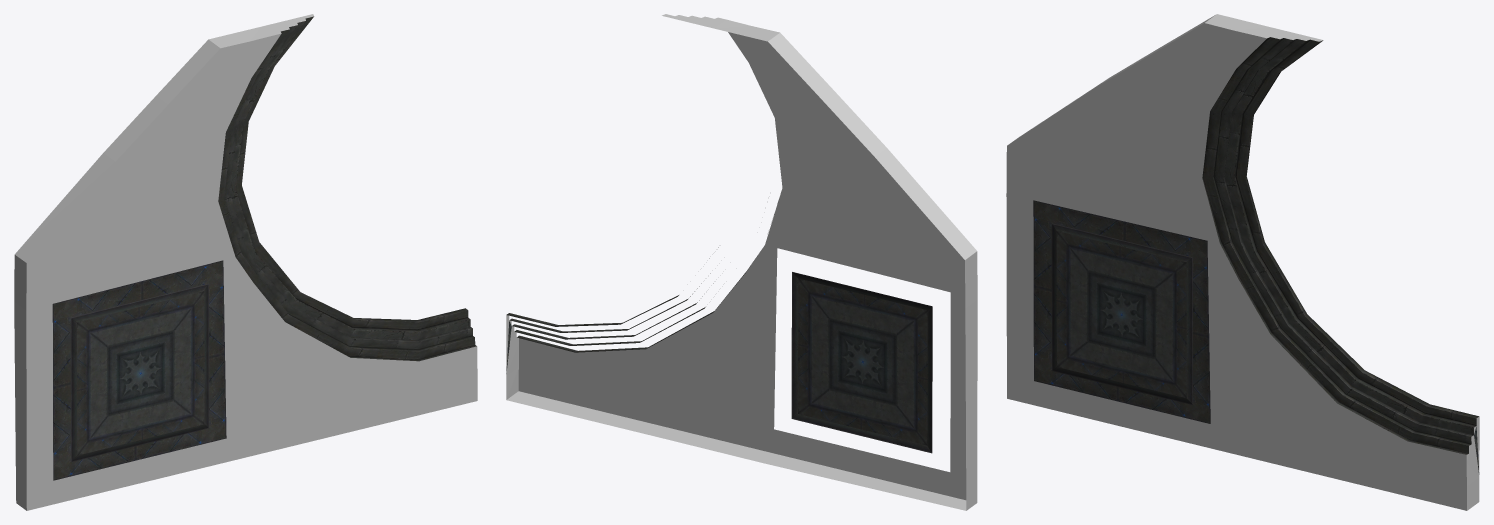
File: mingjie_yewai_340_dimian_02b.obj
The picture shows the model from 3 angles, left to right: view 1: azimuth 30°, elevation 25°; view 2: azimuth 150°, elevation 25°; view 3: azimuth 330°, elevation 25°; orthographic projection. The views are drawn at different scales.
Visible parts, largest first — view 1: mingjie_yewai_351_dimian_03; view 2: mingjie_yewai_351_dimian_03; view 3: mingjie_yewai_351_dimian_03.
Boxes of the visible parts, bbox=[...] form: mingjie_yewai_351_dimian_03: bbox=[14, 14, 477, 510]; mingjie_yewai_351_dimian_03: bbox=[506, 14, 977, 510]; mingjie_yewai_351_dimian_03: bbox=[1006, 14, 1479, 510].
Bounding box in the file's own units: 1904 × 1674 × 96.35.
